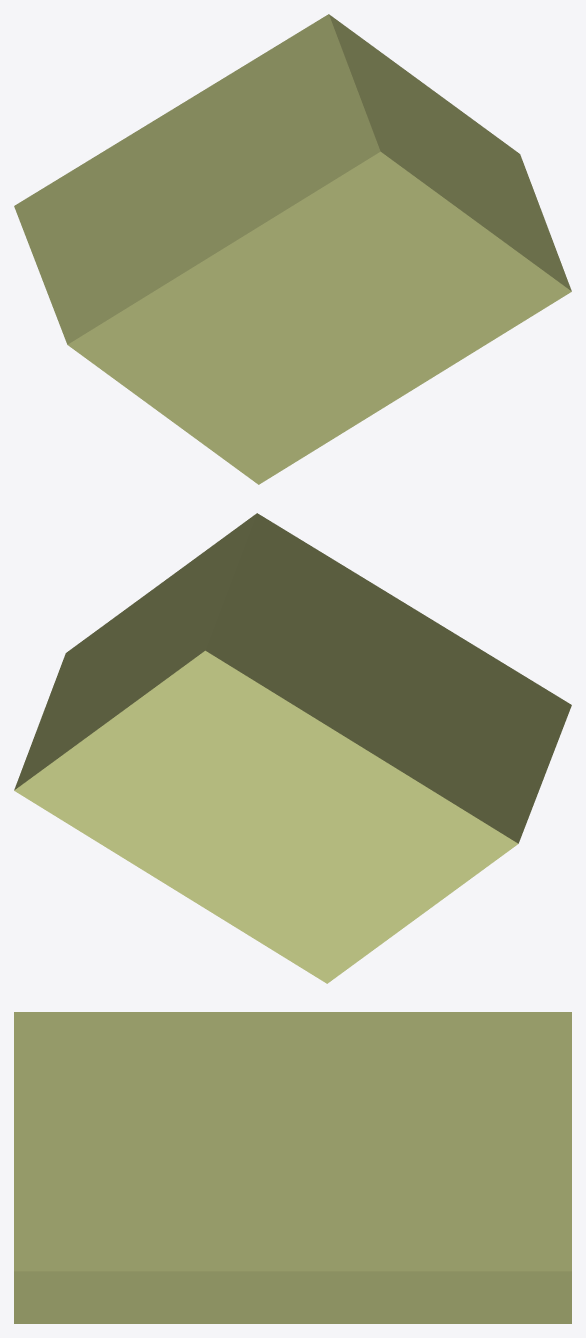
3 views of the same model, one above another, from view 1: azimuth 30°, elevation 25°; view 2: azimuth 150°, elevation 25°; view 3: azimuth 270°, elevation 25° (orthographic). The views are drawn at different scales.
Visible parts, largest first — view 1: 0_1_3_2_2_2_2_0_3_1_0; view 2: 0_1_3_2_2_2_2_0_3_1_0; view 3: 0_1_3_2_2_2_2_0_3_1_0.
Boxes of the visible parts, left/top/right/bottom form: 0_1_3_2_2_2_2_0_3_1_0: left=14, top=14, right=571, bottom=484; 0_1_3_2_2_2_2_0_3_1_0: left=14, top=513, right=571, bottom=983; 0_1_3_2_2_2_2_0_3_1_0: left=14, top=1012, right=571, bottom=1323.
Bounding box in the file's own units: 9.96 × 6.93 × 9.
